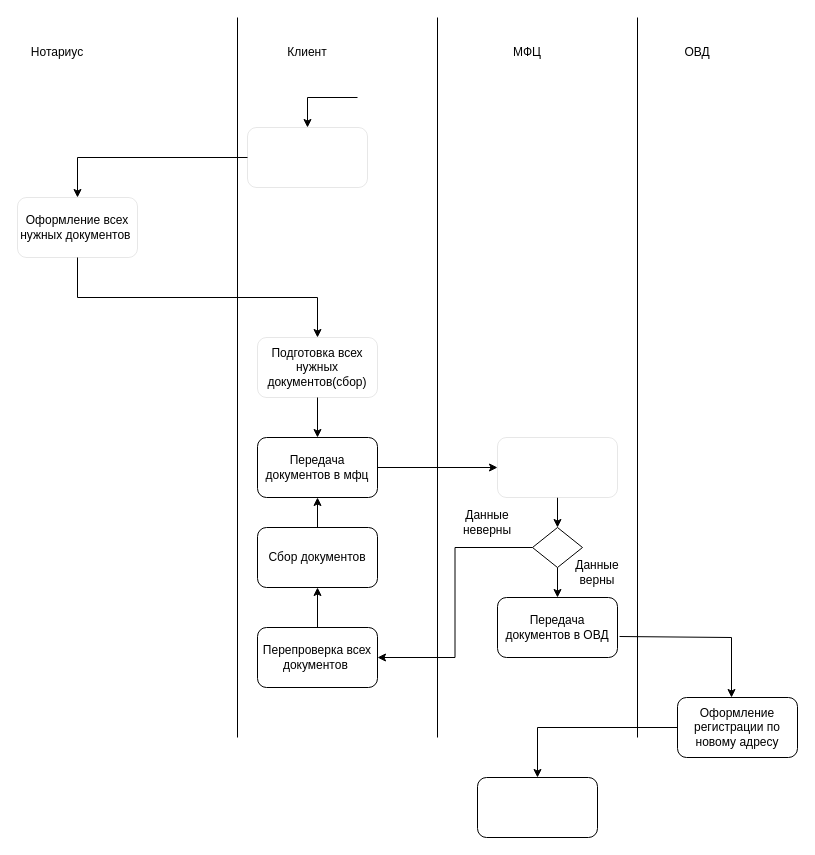
Some shapes in this 815 by 855 pixel diagram are drawn without their labels. The shapes that lost their labels are listed below. From the top down, each one's centre as x and y in pixels, then its label:
(307,157): Запрос на оформление всех нужных документов
(557,467): Проверка документов
(537,807): Выдача документа с отметкой о регистрации по новому адресу
